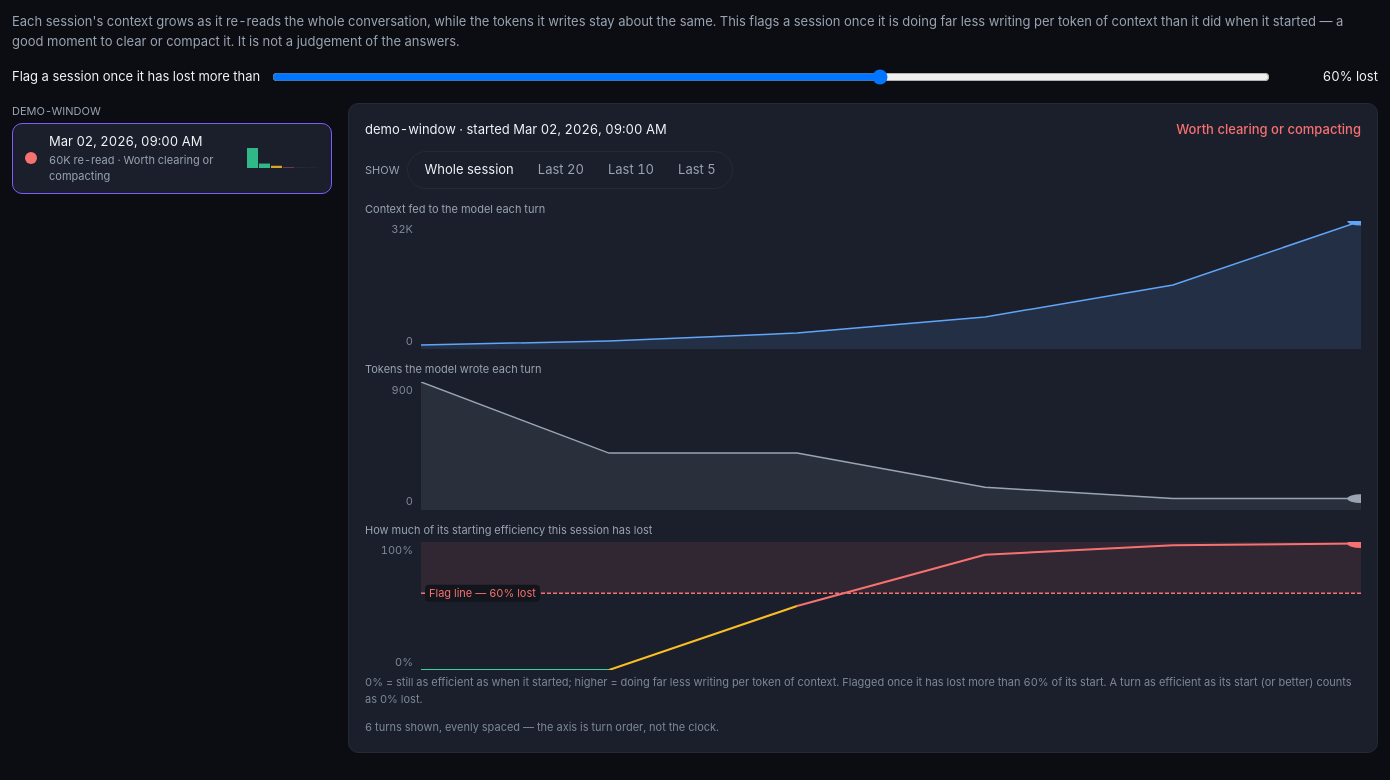
Test: A-12 — Session efficiency panel › ⚠️ windows the x-axis WITHOUT moving the baseline — a windowed turn keeps its whole-session colour
This screenshot has width=1390, height=780.
Note: Zoom to the last 5 turns.
Click the radio button with test id "session-trajectory-detail-window-5" at (697, 170), box [666,156,728,184]
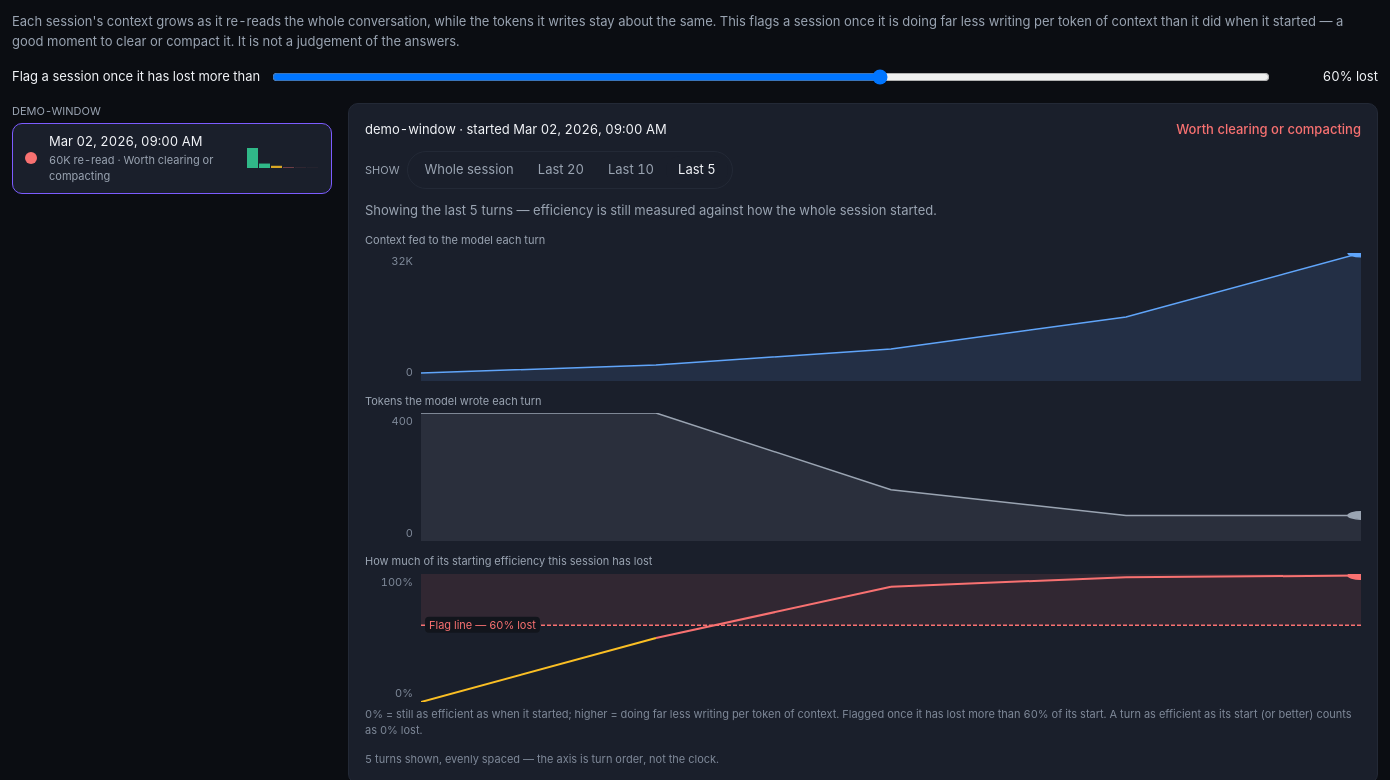
Now the text with test id "session-trajectory-detail-window-caption" shows "Showing the last 5 turns", box [365,202,937,218]
Now the text with test id "session-trajectory-detail-window-caption" shows "still measured against how the whole session started", box [478,202,937,218]
